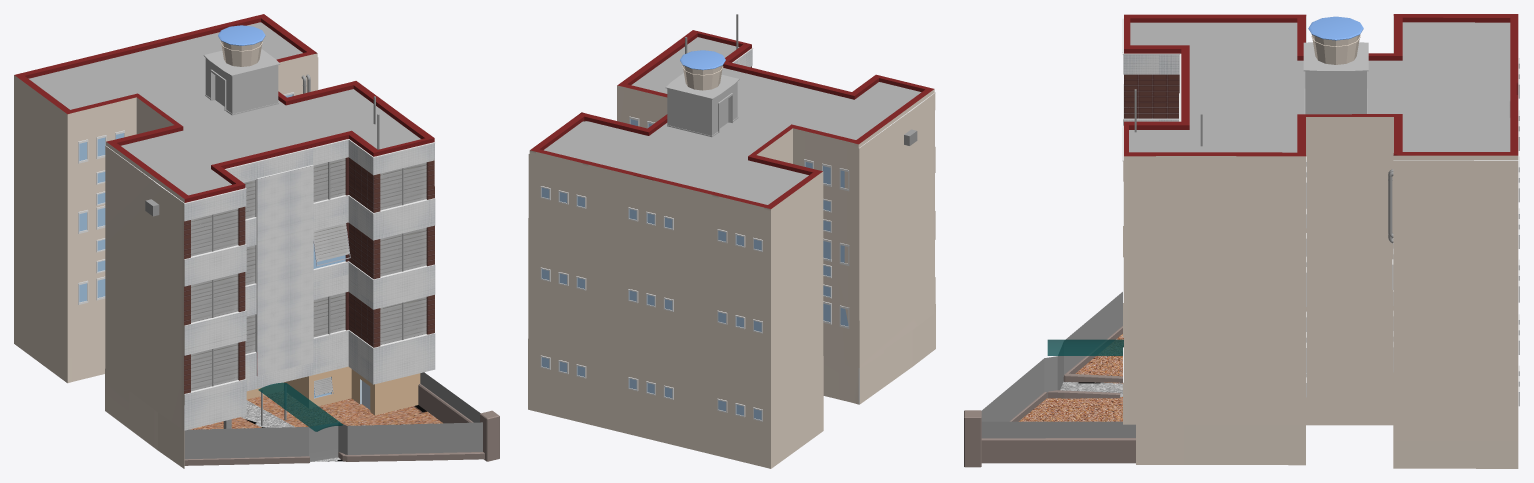
The model's file is Test_Build_01.fbx.
The picture shows the model from 3 angles, left to right: view 1: azimuth 30°, elevation 25°; view 2: azimuth 150°, elevation 25°; view 3: azimuth 270°, elevation 25°; orthographic projection. The views are drawn at different scales.
Visible parts, largest first — view 1: B01MODEL; view 2: B01MODEL; view 3: B01MODEL.
Boxes of the visible parts, box(x1,y1,x2,y2) form: B01MODEL: box(14, 14, 499, 468); B01MODEL: box(528, 14, 935, 468); B01MODEL: box(964, 14, 1519, 468).
Bounding box in the file's own units: 12.3 × 15.14 × 19.78.
